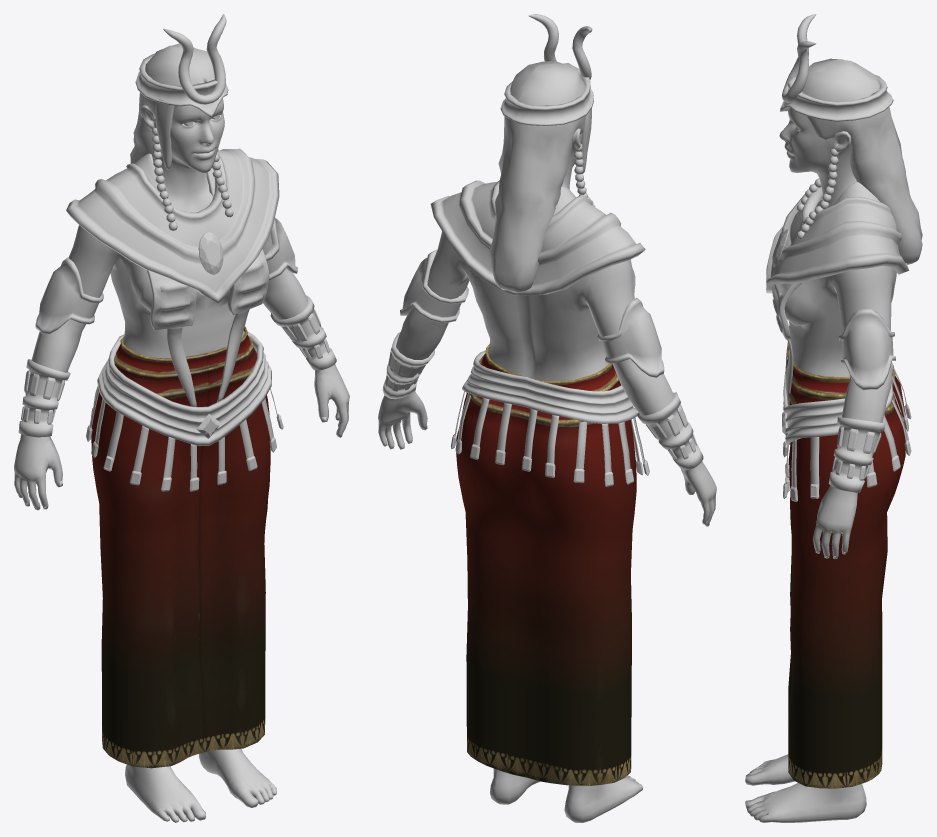
Rendered from uploads_files_2667083_Isis_low.fbx.
3 renders of one model, left to right at view 1: azimuth 30°, elevation 25°; view 2: azimuth 150°, elevation 25°; view 3: azimuth 270°, elevation 25°, orthographic.
Parts seen in each view (by area): view 1: Dress_low, Body, Shoulderplate_low, Belt_low, Scarf_low, Crown_low, Jewellery_2_low, Jewellery_1_low, Hair_low; view 2: Dress_low, Body, Hair_low, Shoulderplate_low, Belt_low, Jewellery_1_low, Jewellery_2_low, Crown_low; view 3: Dress_low, Body, Shoulderplate_low, Hair_low, Belt_low, Crown_low, Jewellery_1_low, Jewellery_2_low, Scarf_low.
Part boxes in pixels (x1,y1,x2,y2): Dress_low: (91,326,270,768); Body: (14,98,349,822); Shoulderplate_low: (66,148,279,303); Belt_low: (86,331,283,491); Scarf_low: (135,153,269,406); Crown_low: (135,14,233,230); Jewellery_2_low: (18,295,336,437); Jewellery_1_low: (35,217,297,334); Hair_low: (130,43,214,169); Dress_low: (456,343,636,785); Body: (378,128,716,822); Hair_low: (489,61,591,293); Shoulderplate_low: (430,180,645,296); Belt_low: (450,350,649,486); Jewellery_1_low: (400,249,664,377); Jewellery_2_low: (382,332,703,470); Crown_low: (500,14,595,206); Dress_low: (786,345,905,788); Body: (745,108,896,822); Shoulderplate_low: (766,187,908,293); Hair_low: (802,58,922,264); Belt_low: (782,362,911,501); Crown_low: (779,14,893,239); Jewellery_1_low: (838,308,895,390); Jewellery_2_low: (828,417,885,492); Scarf_low: (772,182,879,405).
Size of the model in its own units: 3165 by 7086 by 1480.
